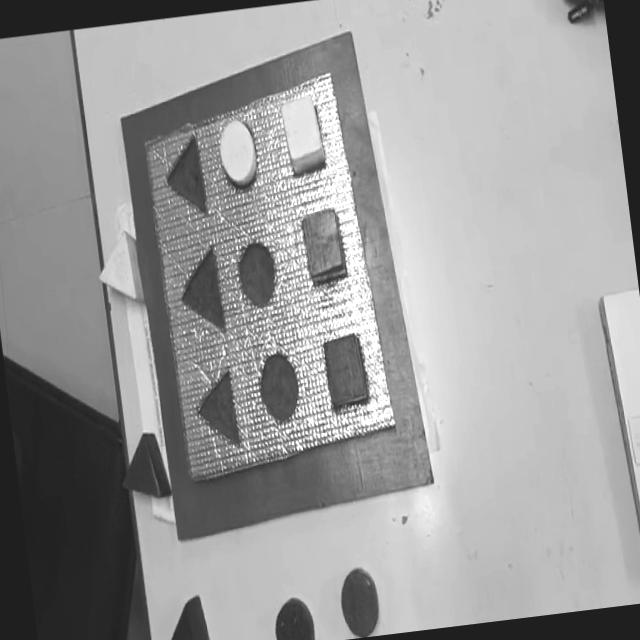bcircle: (270, 595, 315, 640)
bcube: (321, 331, 371, 411)
btriangle: (155, 594, 213, 640)
mtcircle: (255, 348, 302, 424), (236, 238, 280, 309)
mttriangle: (174, 245, 226, 338), (160, 132, 208, 218), (192, 368, 242, 450)
rcircle: (336, 565, 382, 639)
rcube: (300, 206, 348, 287)
rtriangle: (116, 430, 172, 502)
wb: (134, 66, 400, 487)
ycircle: (216, 117, 260, 190)
ycube: (279, 94, 325, 176)
ytriangle: (92, 229, 144, 307)
